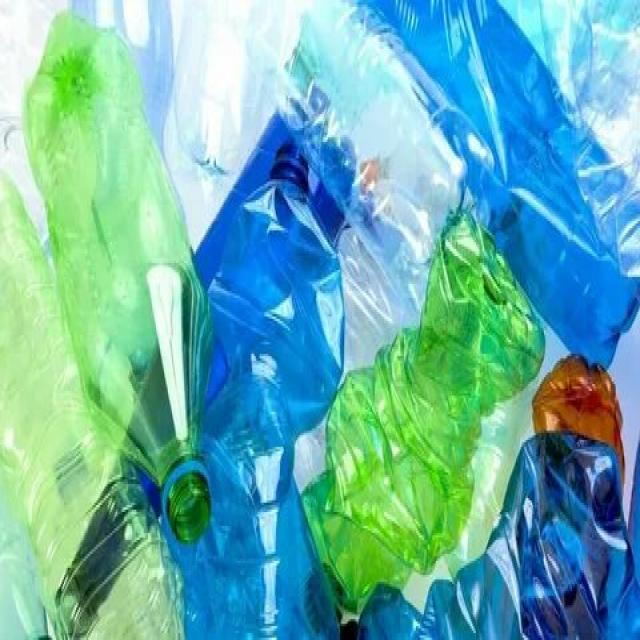brown: (532, 350, 628, 440)
green: (296, 216, 546, 623), (25, 10, 212, 549), (0, 160, 185, 637)
